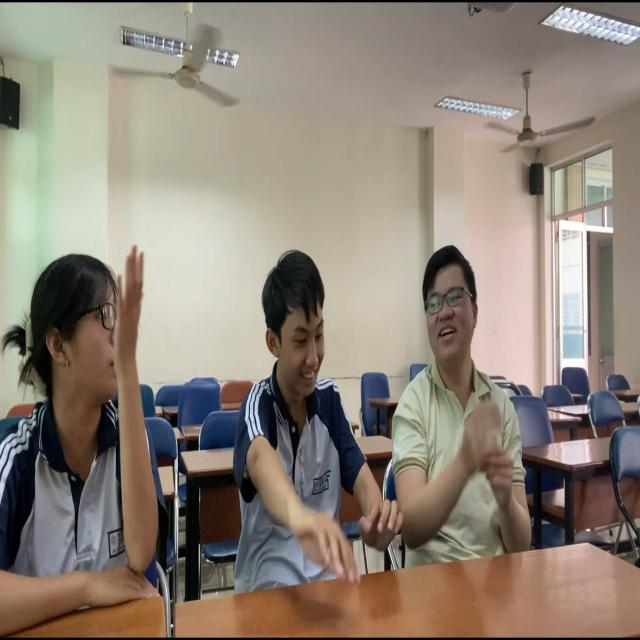raise_hand: (1, 211, 205, 640)
